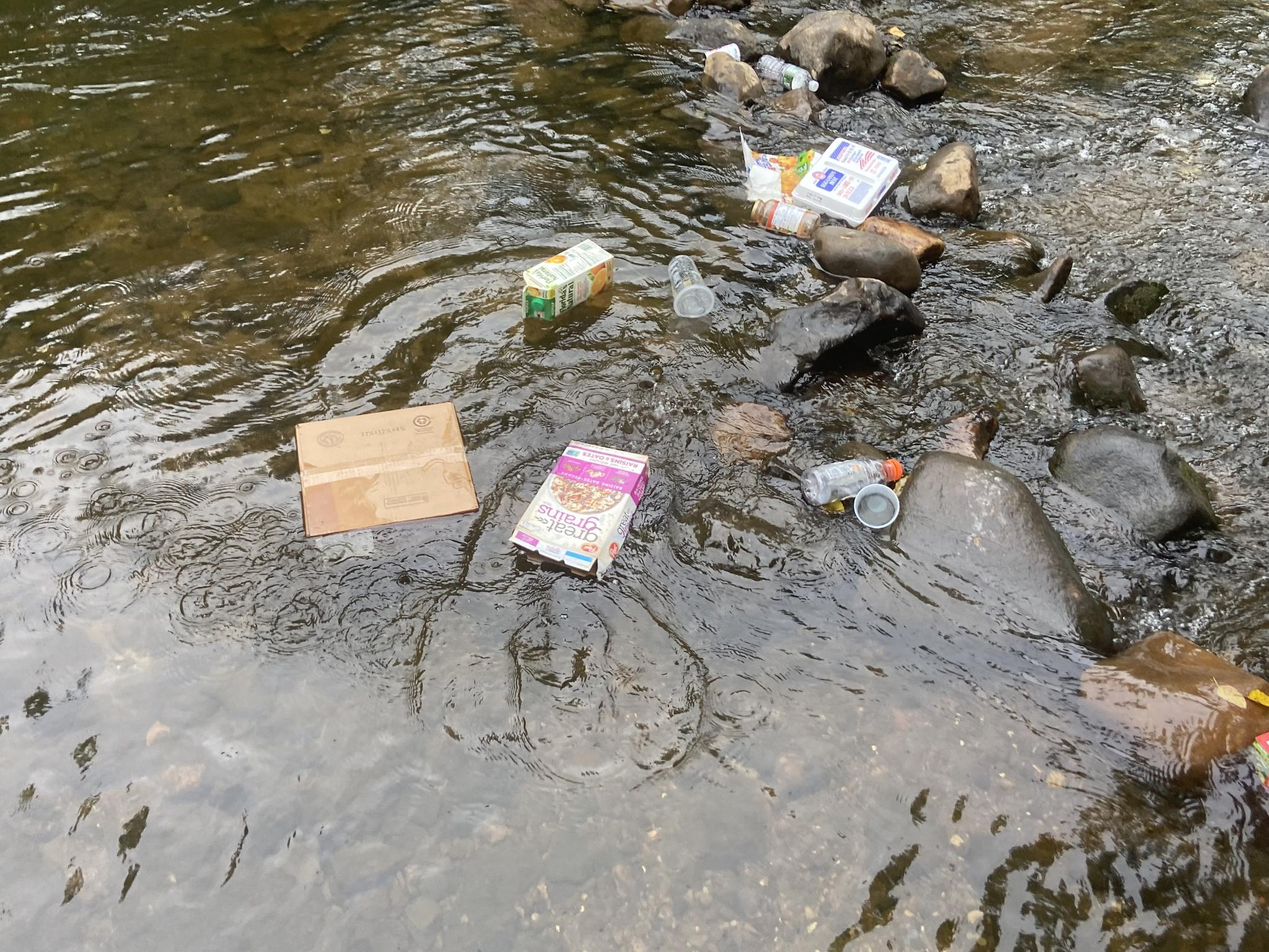cardboard: (274, 386, 492, 593), (499, 422, 665, 604), (502, 224, 628, 337), (723, 121, 821, 209), (1240, 724, 1269, 801)
glass: (743, 191, 825, 254)
metal: (697, 35, 747, 77)
plastic: (788, 132, 909, 227), (791, 449, 913, 511), (655, 245, 722, 328), (847, 477, 904, 540), (750, 50, 826, 97)
